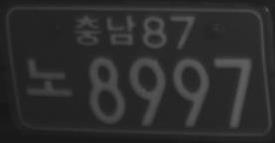7: (212, 55, 253, 130), (168, 13, 197, 49)
8: (86, 55, 126, 125), (141, 14, 168, 49)
9: (126, 54, 167, 126), (170, 56, 211, 128)
노: (25, 57, 74, 98)
충남_O: (74, 13, 138, 48)
